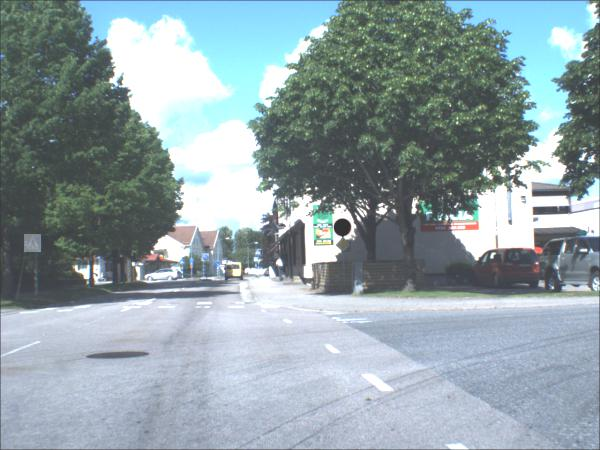NO_STOPPING_NO_STANDING: (335, 219, 354, 239)
PASS_RIGHT_SIDE: (203, 254, 211, 263), (216, 263, 222, 267)
PEDESTRIAN_CROSSING: (25, 235, 43, 254), (257, 251, 265, 257), (255, 258, 260, 263), (182, 261, 186, 266)
PRIORITY_ROAD: (336, 239, 353, 254)
